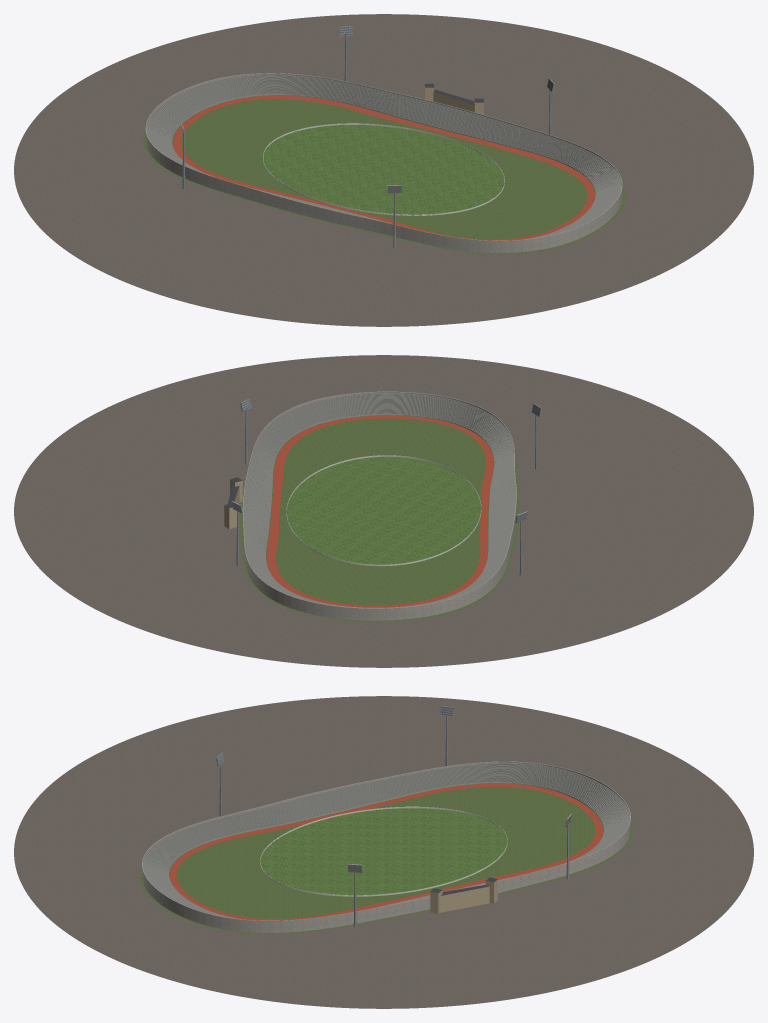
The model's file is jiangwan.glb.
3 renders of one model, top to bottom at view 1: azimuth 30°, elevation 25°; view 2: azimuth 150°, elevation 25°; view 3: azimuth 270°, elevation 25°, orthographic.
Visible parts, largest first — view 1: concourse, stands, fence, towers, extras; view 2: concourse, stands, towers, fence, extras; view 3: concourse, stands, extras, fence, towers.
Part boxes in pixels (left/top/right/bottom): concourse: left=14, top=14, right=753, bottom=326; stands: left=145, top=73, right=622, bottom=252; fence: left=263, top=123, right=504, bottom=215; towers: left=180, top=26, right=554, bottom=247; extras: left=424, top=83, right=483, bottom=114; concourse: left=14, top=355, right=753, bottom=667; stands: left=242, top=391, right=516, bottom=620; towers: left=231, top=398, right=541, bottom=575; fence: left=286, top=455, right=481, bottom=566; extras: left=224, top=477, right=242, bottom=529; concourse: left=14, top=696, right=753, bottom=1008; stands: left=142, top=761, right=630, bottom=932; extras: left=430, top=877, right=497, bottom=914; fence: left=260, top=806, right=507, bottom=896; towers: left=216, top=706, right=572, bottom=926.
Size of the model in its own units: 480 by 44.92 by 480.
12 materials, 12 textured.
